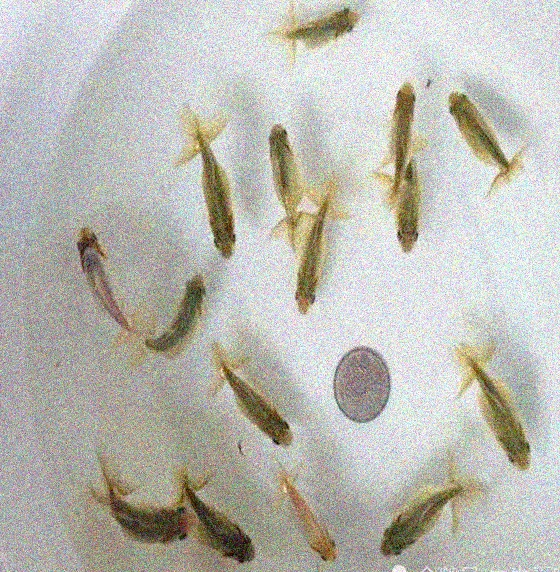fry: (161, 96, 243, 263), (59, 214, 148, 359), (453, 341, 542, 482), (363, 459, 483, 560), (197, 340, 301, 453), (444, 79, 539, 199), (89, 462, 194, 564), (176, 465, 267, 572), (128, 263, 208, 376), (246, 109, 311, 248), (268, 457, 344, 571), (365, 69, 429, 202), (280, 176, 339, 317), (263, 4, 373, 61), (380, 149, 429, 264)
